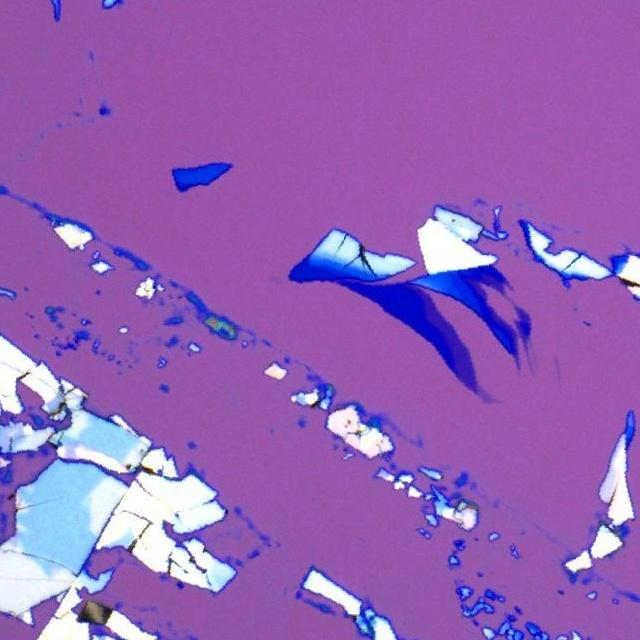monolayer-eWW4: (478, 386, 500, 406)
